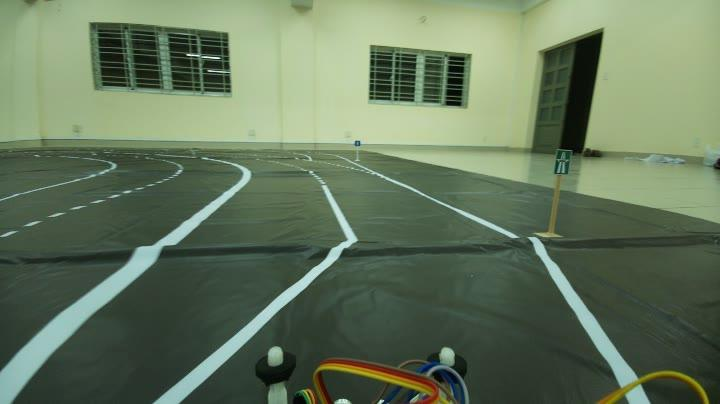highway_entry: (546, 140, 581, 182)
